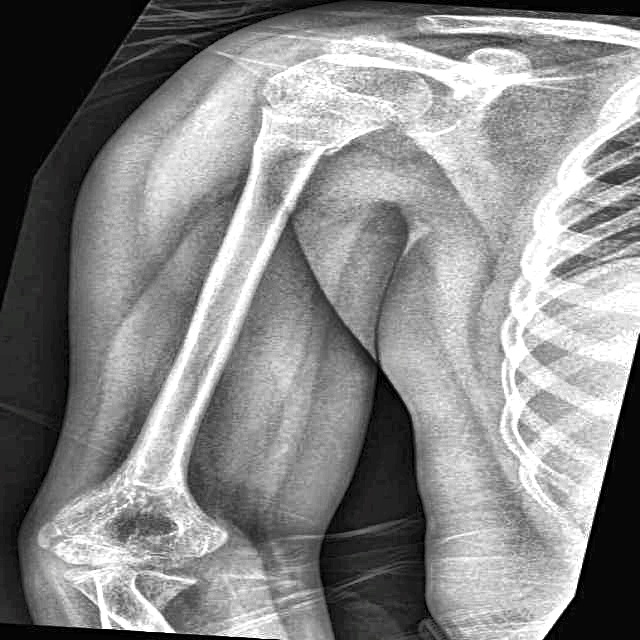Oblique Displaced: (221, 142, 331, 203)
